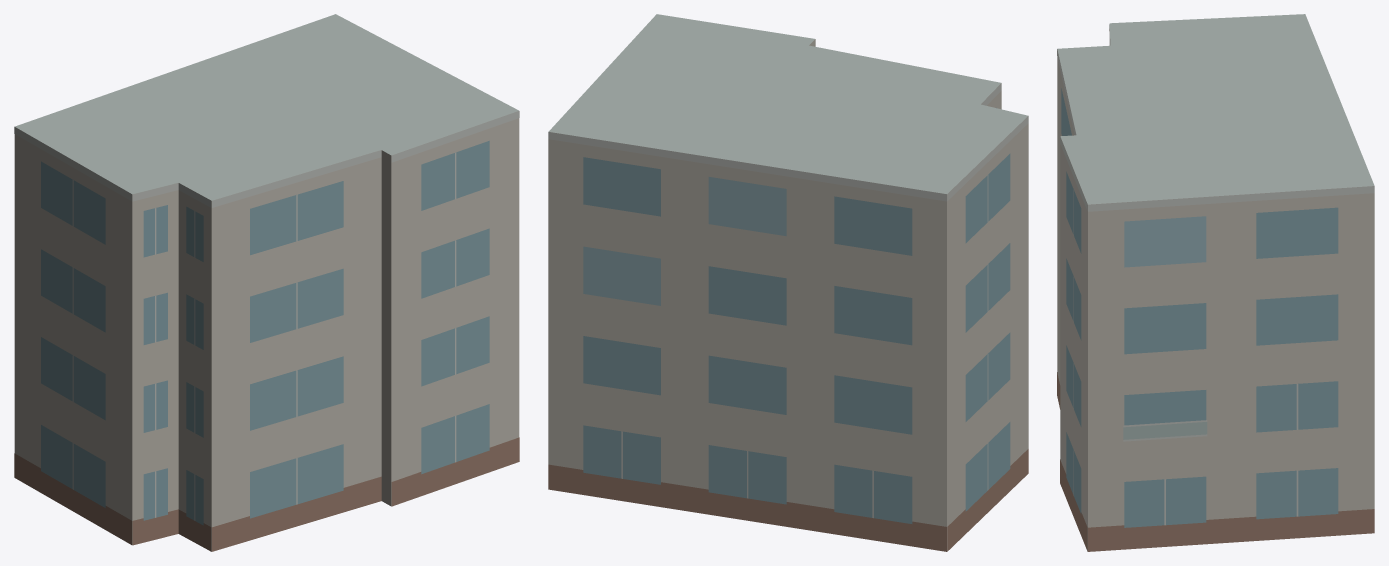
The model's file is survey-upis-32702632.glb.
The picture shows the model from 3 angles, left to right: view 1: azimuth 30°, elevation 25°; view 2: azimuth 150°, elevation 25°; view 3: azimuth 270°, elevation 25°; orthographic projection. The views are drawn at different scales.
Parts seen in each view (by area): view 1: survey-upis-32702632.tmp; view 2: survey-upis-32702632.tmp; view 3: survey-upis-32702632.tmp.
Part boxes in pixels (left/top/right/bottom): survey-upis-32702632.tmp: left=14, top=14, right=519, bottom=551; survey-upis-32702632.tmp: left=548, top=14, right=1028, bottom=551; survey-upis-32702632.tmp: left=1057, top=14, right=1374, bottom=551.
Size of the model in its own units: 13.9 by 11.8 by 9.79.
